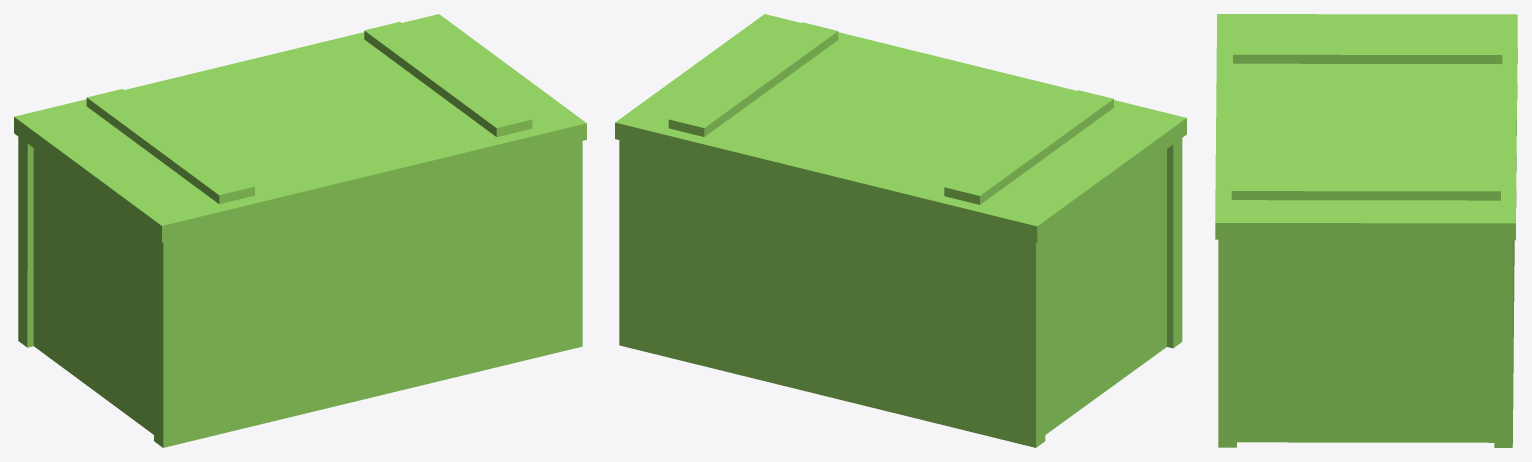
3 renders of one model, left to right at view 1: azimuth 30°, elevation 25°; view 2: azimuth 150°, elevation 25°; view 3: azimuth 270°, elevation 25°, orthographic.
Parts seen in each view (by area): view 1: Wooden Box_1_LOD0; view 2: Wooden Box_1_LOD0; view 3: Wooden Box_1_LOD0.
Part boxes in pixels (<box>): Wooden Box_1_LOD0: <box>14,14,586,447</box>; Wooden Box_1_LOD0: <box>615,14,1186,447</box>; Wooden Box_1_LOD0: <box>1215,14,1517,447</box>.
Size of what is drawn, in the model's own units: 93.78 by 49.09 by 57.27.
